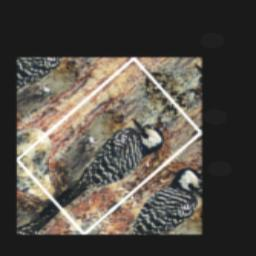Woodpecker: (32, 90, 175, 226)
